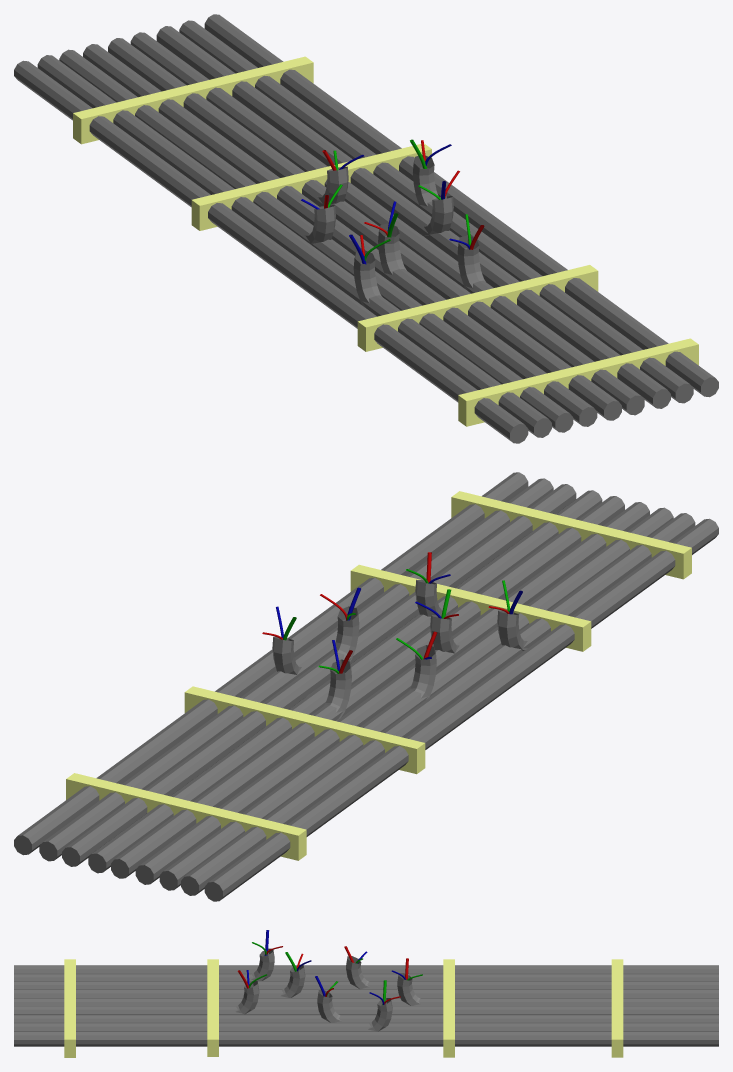
Rendered from Cables_sol2.fbx.
3 renders of one model, top to bottom at view 1: azimuth 30°, elevation 25°; view 2: azimuth 150°, elevation 25°; view 3: azimuth 270°, elevation 25°, orthographic. The views are drawn at different scales.
Parts seen in each view (by area): view 1: Tube11, Tube17, Tube19, Tube12, Tube15, Tube14, Tube16, Tube18, Tube13, Support_tube5, Support_tube7, Support_tube4 (+8 smaller); view 2: Tube11, Tube17, Tube19, Tube12, Tube15, Tube14, Tube18, Tube16, Tube13, Support_tube6, Support_tube5, Support_tube7 (+8 smaller); view 3: Tube19, Tube18, Tube16, Tube11, Tube14, Tube13, Tube17, Tube15, Tube12, Support_tube7, Support_tube5, Support_tube6 (+8 smaller).
Boxes of the visible parts, bbox=[...] form: Tube11: bbox=[14, 60, 528, 443]; Tube17: bbox=[156, 26, 670, 408]; Tube19: bbox=[204, 14, 718, 397]; Tube12: bbox=[37, 55, 551, 437]; Tube15: bbox=[108, 38, 621, 420]; Tube14: bbox=[83, 44, 597, 426]; Tube16: bbox=[130, 32, 644, 415]; Tube18: bbox=[179, 20, 693, 403]; Tube13: bbox=[59, 49, 573, 432]; Support_tube5: bbox=[458, 338, 698, 426]; Support_tube7: bbox=[73, 56, 313, 144]; Support_tube4: bbox=[357, 265, 598, 351]; Tube11: bbox=[204, 518, 718, 901]; Tube17: bbox=[62, 484, 576, 866]; Tube19: bbox=[14, 472, 528, 855]; Tube12: bbox=[181, 513, 695, 895]; Tube15: bbox=[111, 496, 624, 878]; Tube14: bbox=[135, 502, 649, 884]; Tube18: bbox=[39, 478, 553, 861]; Tube16: bbox=[88, 490, 602, 873]; Tube13: bbox=[159, 507, 673, 890]; Support_tube6: bbox=[184, 686, 425, 774]; Support_tube5: bbox=[451, 491, 691, 579]; Support_tube7: bbox=[66, 773, 306, 860]; Tube19: bbox=[14, 1031, 718, 1046]; Tube18: bbox=[14, 1022, 718, 1031]; Tube16: bbox=[14, 1006, 718, 1014]; Tube11: bbox=[14, 965, 718, 973]; Tube14: bbox=[14, 989, 718, 997]; Tube13: bbox=[14, 981, 718, 989]; Tube17: bbox=[14, 1015, 718, 1022]; Tube15: bbox=[14, 998, 718, 1005]; Tube12: bbox=[14, 973, 718, 980]; Support_tube7: bbox=[611, 959, 623, 1057]; Support_tube5: bbox=[64, 959, 75, 1057]; Support_tube6: bbox=[443, 959, 454, 1057].
Size of the model in its own units: 2.7 by 0.8898 by 9.99.
